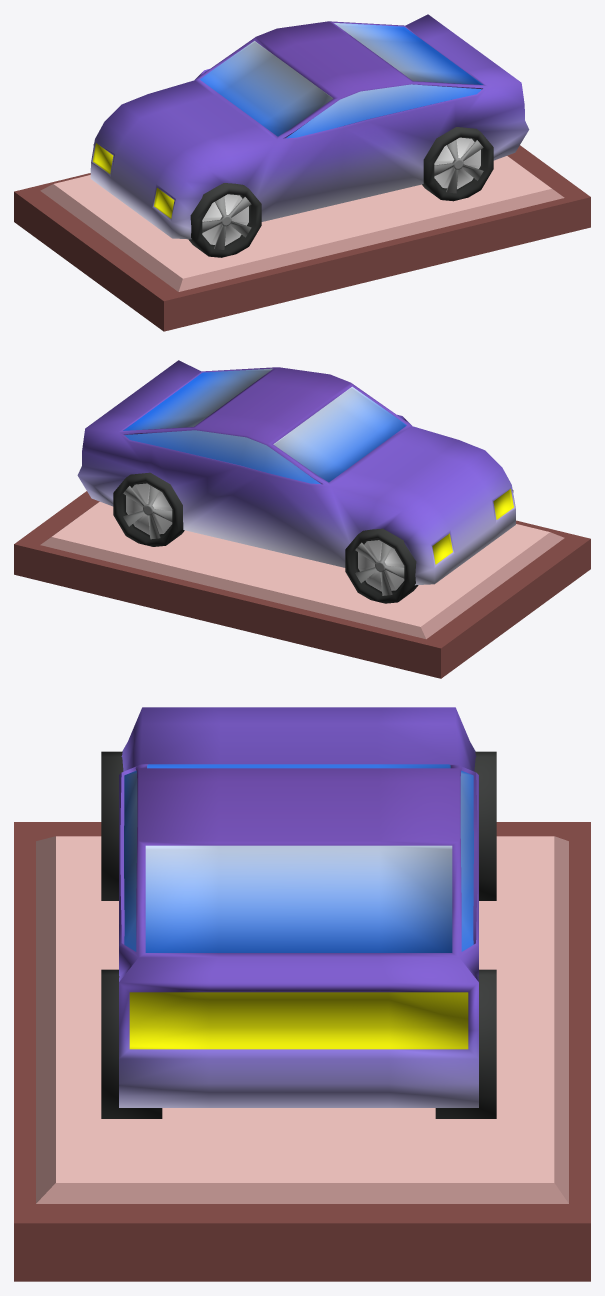
Rendered from Car_Decor_Purple.fbx.
3 views of the same model, one above another, from view 1: azimuth 30°, elevation 25°; view 2: azimuth 150°, elevation 25°; view 3: azimuth 270°, elevation 25° (orthographic). The views are drawn at different scales.
Parts seen in each view (by area): view 1: Car_Decor_Purple; view 2: Car_Decor_Purple; view 3: Car_Decor_Purple.
Part boxes in pixels (bbox=[...]): Car_Decor_Purple: bbox=[14, 14, 590, 331]; Car_Decor_Purple: bbox=[14, 360, 590, 678]; Car_Decor_Purple: bbox=[14, 707, 590, 1281].
Size of the model in its own units: 0.5068 by 0.1845 by 0.308.
